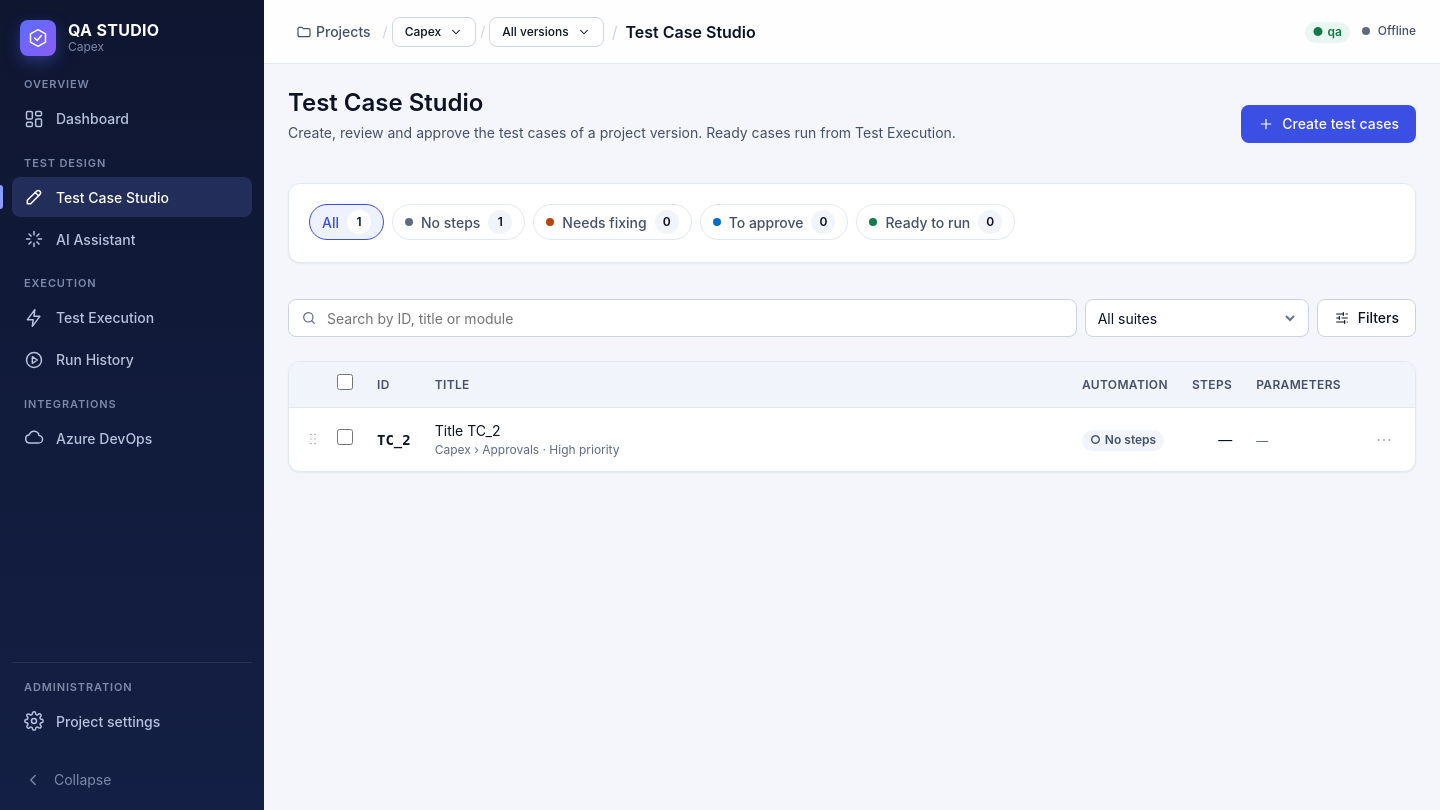
Test: filing test cases › files a new case under the chosen suite of the header project
Click the button "Create test cases" at (1329, 124), box [1241,105,1416,143]
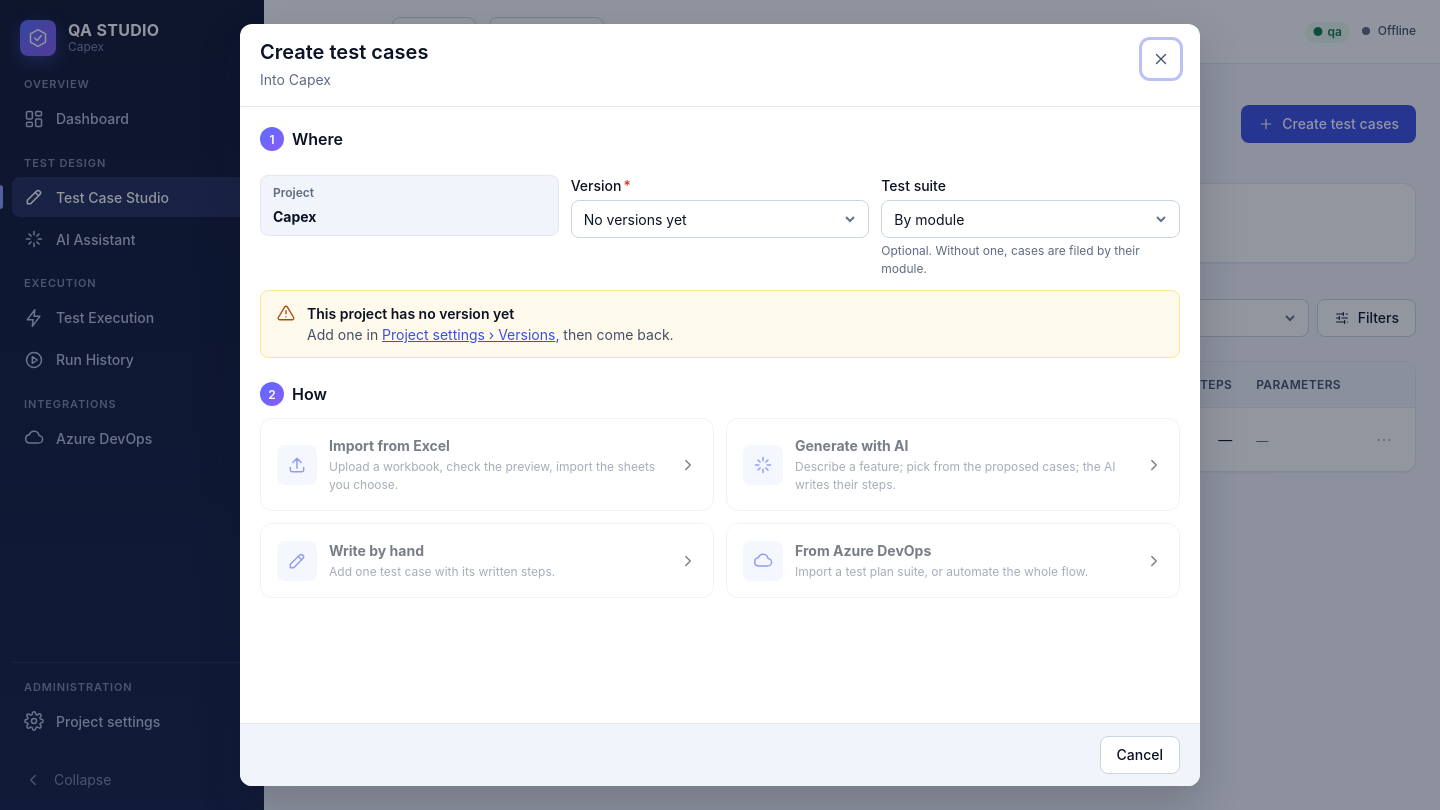
Expected: the text "Capex" is shown, [273,208,316,225]
